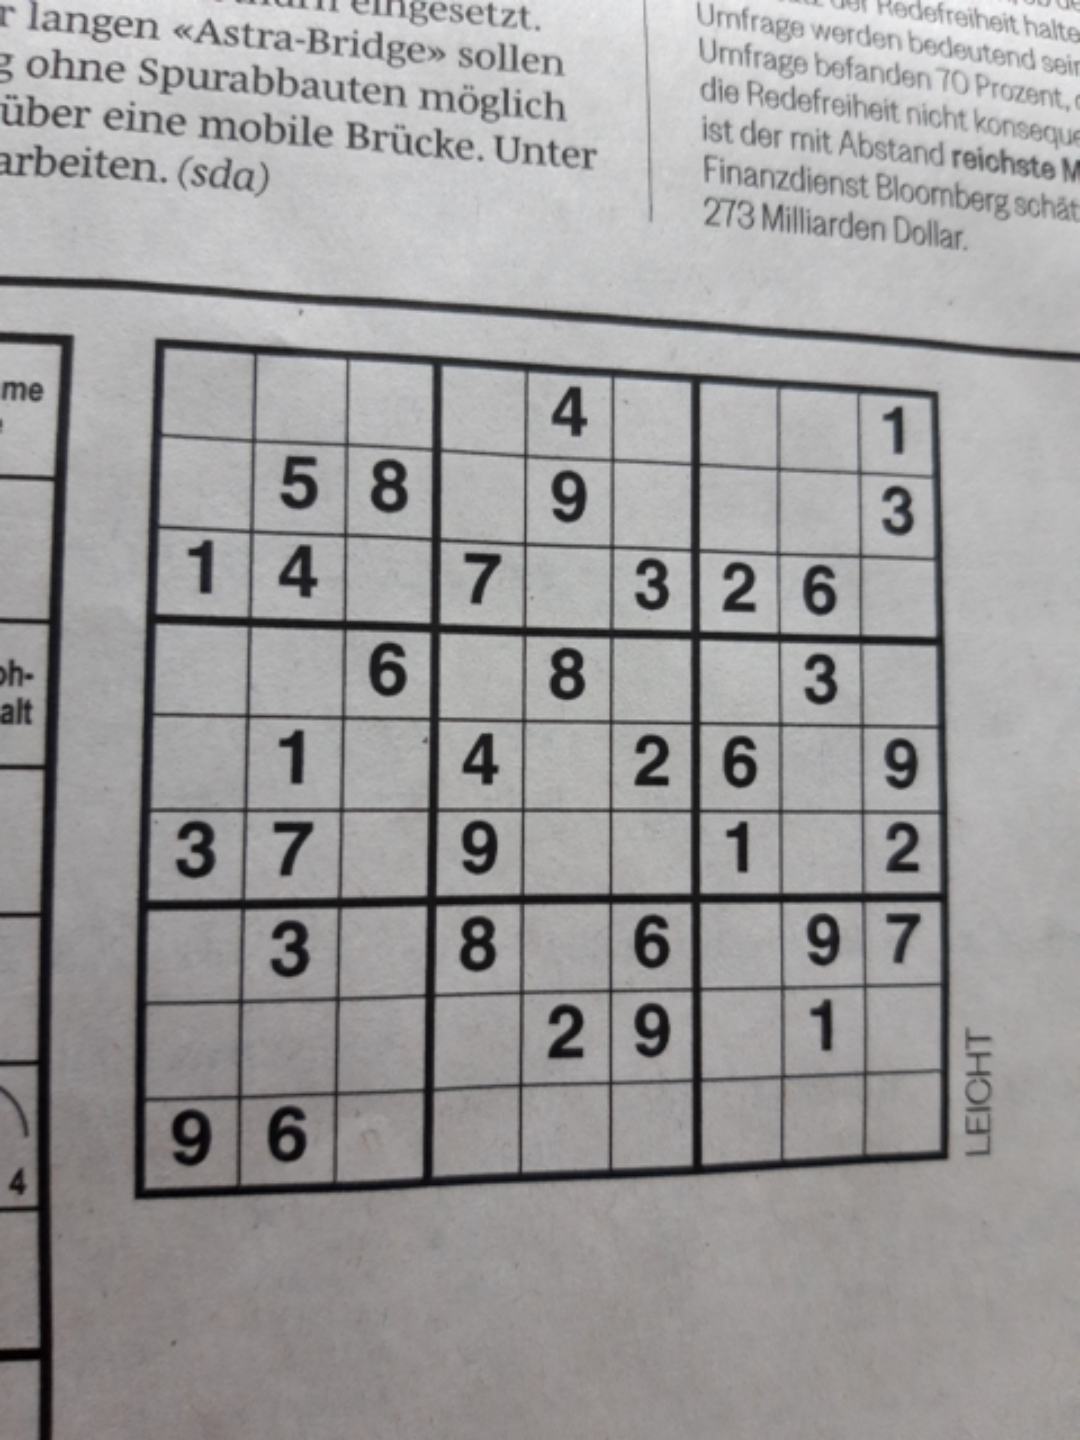sudoku: (129, 339, 953, 1196)
